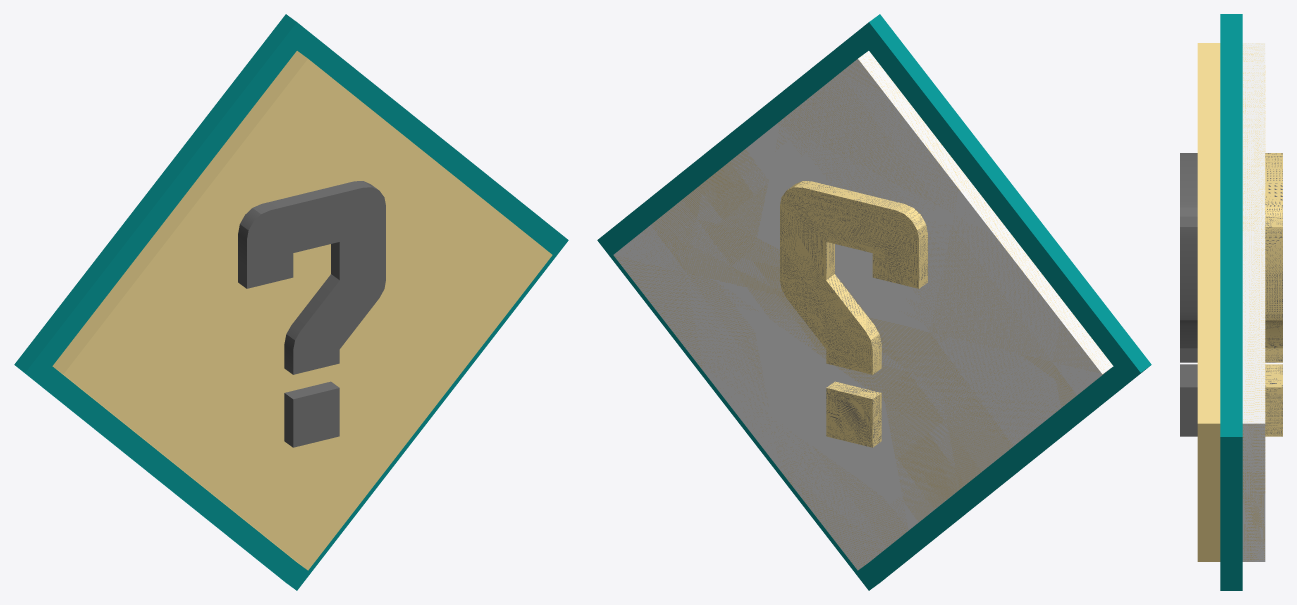
File: QuestionMarkMarker.dae
3 views of the same model, side by side, from view 1: azimuth 30°, elevation 25°; view 2: azimuth 150°, elevation 25°; view 3: azimuth 270°, elevation 25° (orthographic).
Visible parts, largest first — view 1: SketchUp (×4); view 2: SketchUp (×4); view 3: SketchUp (×7).
Part boxes in pixels (x1,y1,x2,y2): SketchUp (×4): [14, 14, 568, 590]; SketchUp (×4): [597, 14, 1151, 590]; SketchUp (×7): [1180, 14, 1282, 590].
Size of the model in its own units: 55.68 by 9.01 by 55.68.
